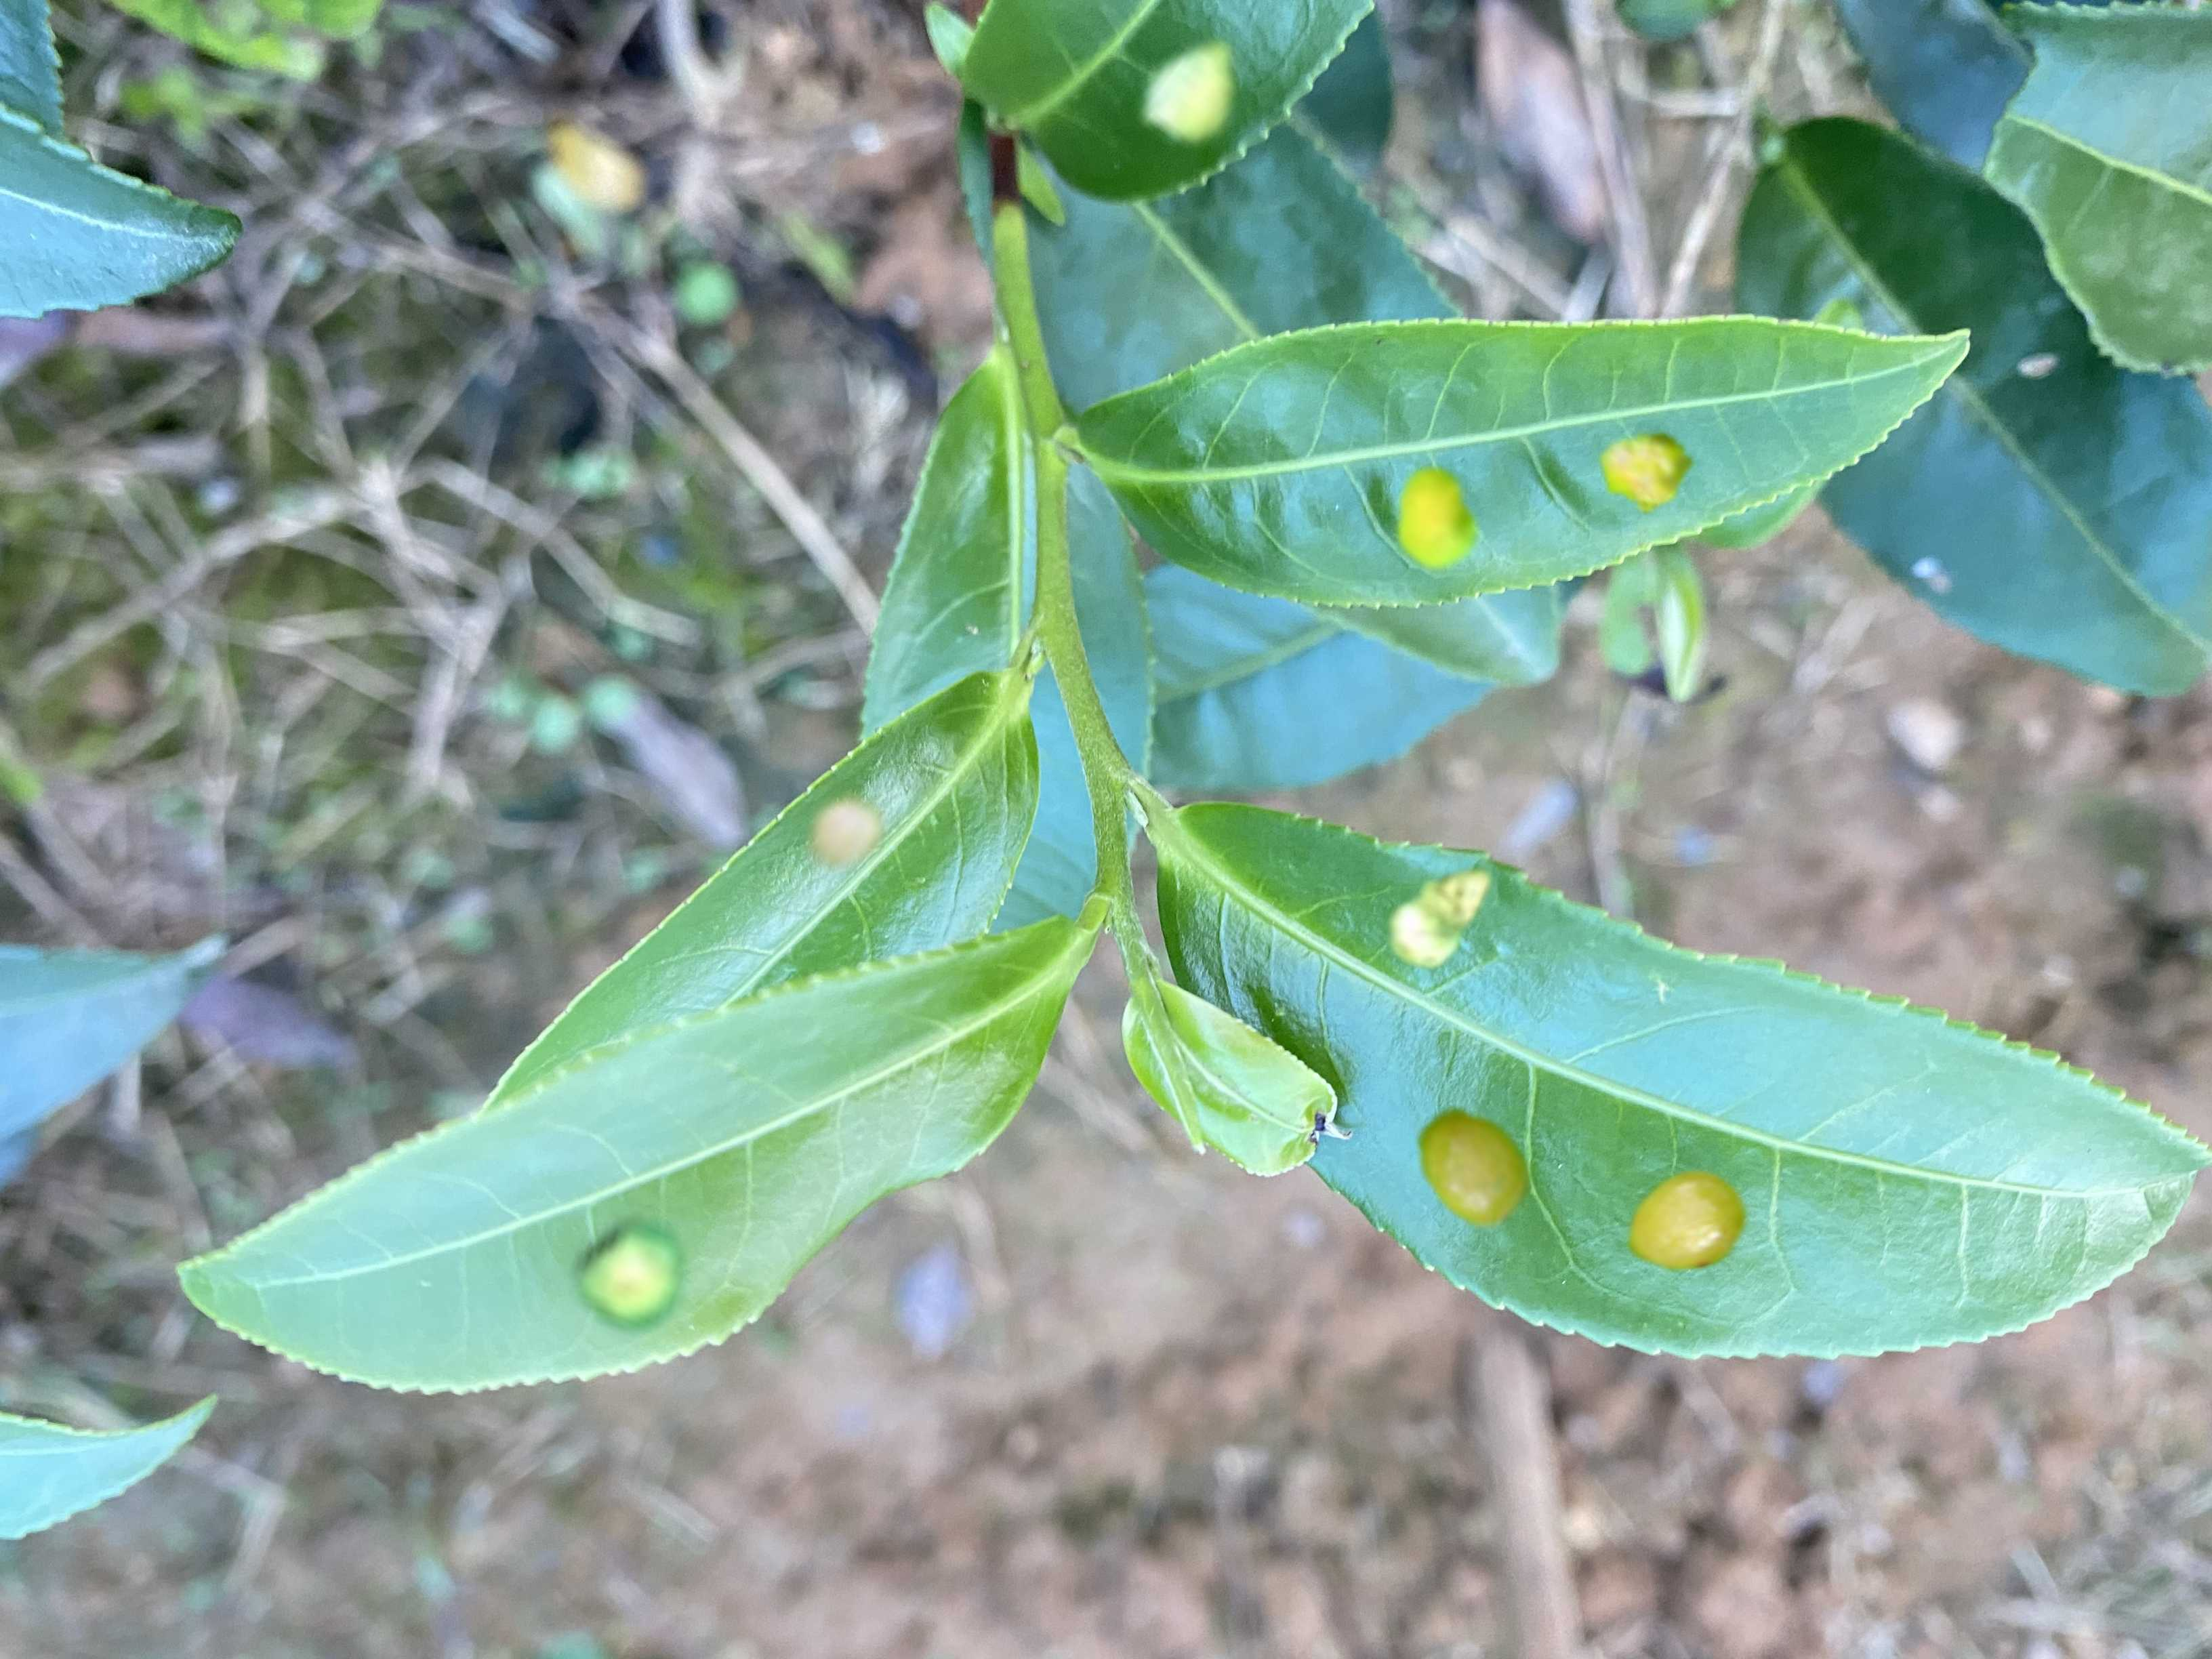chabing_high: (1158, 803, 2212, 1364), (1078, 314, 1970, 612)
chabing_low: (174, 915, 1099, 1396), (477, 666, 1040, 1115), (958, 2, 1376, 211)
tanju_low: (1123, 983, 1339, 1178)
